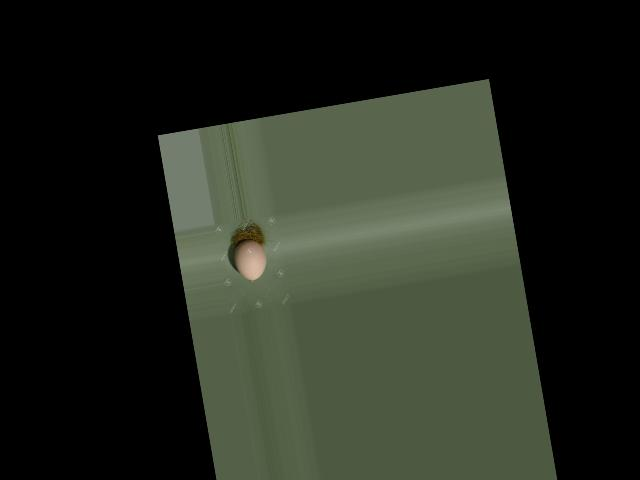egg: (231, 237, 269, 283)
